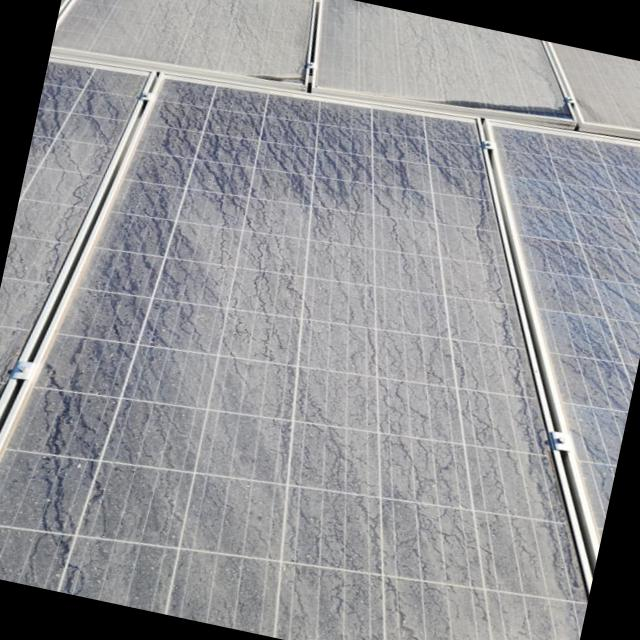faulty: (0, 0, 640, 640), (0, 77, 579, 640)
